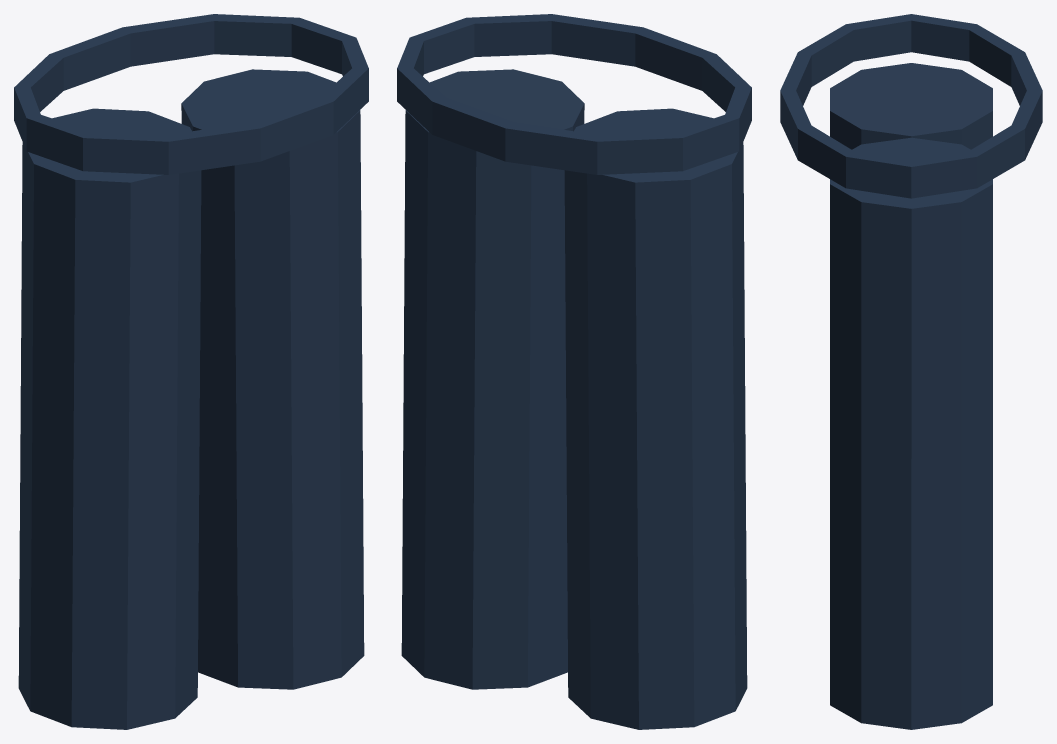
Rendered from Modular_Male_Trousers.fbx.
The picture shows the model from 3 angles, left to right: view 1: azimuth 30°, elevation 25°; view 2: azimuth 150°, elevation 25°; view 3: azimuth 270°, elevation 25°; orthographic projection. The views are drawn at different scales.
Visible parts, largest first — view 1: PantsLeg.024, PantsLeg.025, Belt.013; view 2: PantsLeg.024, PantsLeg.025, Belt.013; view 3: PantsLeg.025, Belt.013, PantsLeg.024.
Boxes of the visible parts, x1,y1,x2,y2 form: PantsLeg.024: (18,108,201,729); PantsLeg.025: (181,69,364,689); Belt.013: (14,14,368,174); PantsLeg.024: (564,108,747,729); PantsLeg.025: (401,69,584,689); Belt.013: (397,14,751,174); PantsLeg.025: (830,137,992,729); Belt.013: (780,14,1042,198); PantsLeg.024: (830,63,992,149).
Size of the model in its own units: 0.436 by 0.7517 by 0.316.
